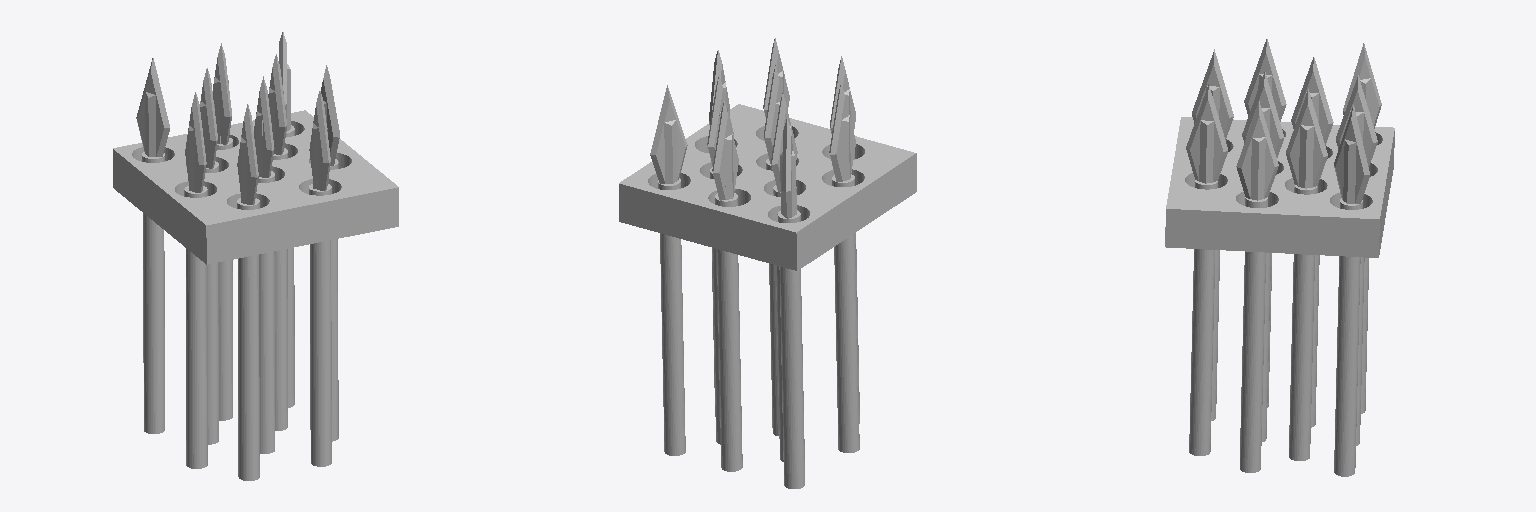
File: speartrapobj.obj
3 renders of one model, left to right at view 1: azimuth 30°, elevation 25°; view 2: azimuth 150°, elevation 25°; view 3: azimuth 270°, elevation 25°, orthographic.
Parts seen in each view (by area): view 1: Spear_Trap; view 2: Spear_Trap; view 3: Spear_Trap.
Part boxes in pixels (left/top/right/bottom): Spear_Trap: left=113, top=32, right=398, bottom=480; Spear_Trap: left=619, top=38, right=916, bottom=488; Spear_Trap: left=1165, top=39, right=1394, bottom=476.
Bounding box in the file's own units: 5.35 × 9.61 × 5.36.